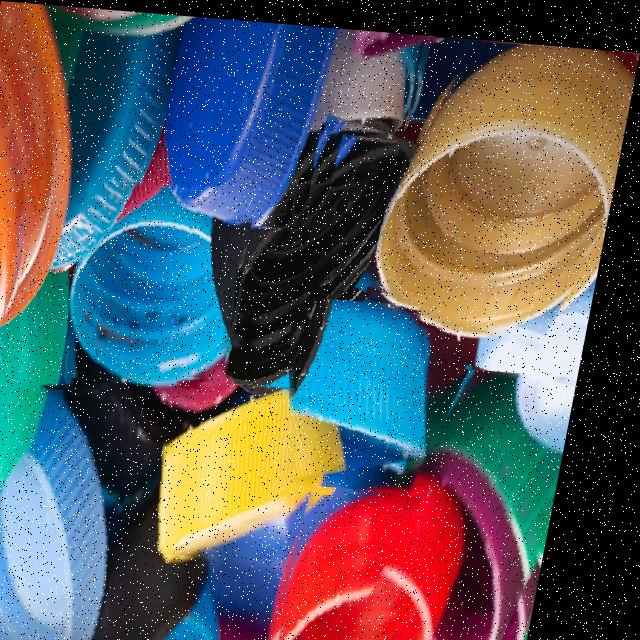plasticbottlecap: (386, 35, 635, 318), (221, 131, 425, 379), (446, 360, 578, 640), (168, 13, 339, 220), (0, 385, 132, 640), (303, 485, 497, 640), (86, 179, 241, 372), (178, 382, 350, 547), (306, 291, 441, 445), (44, 383, 124, 517)
